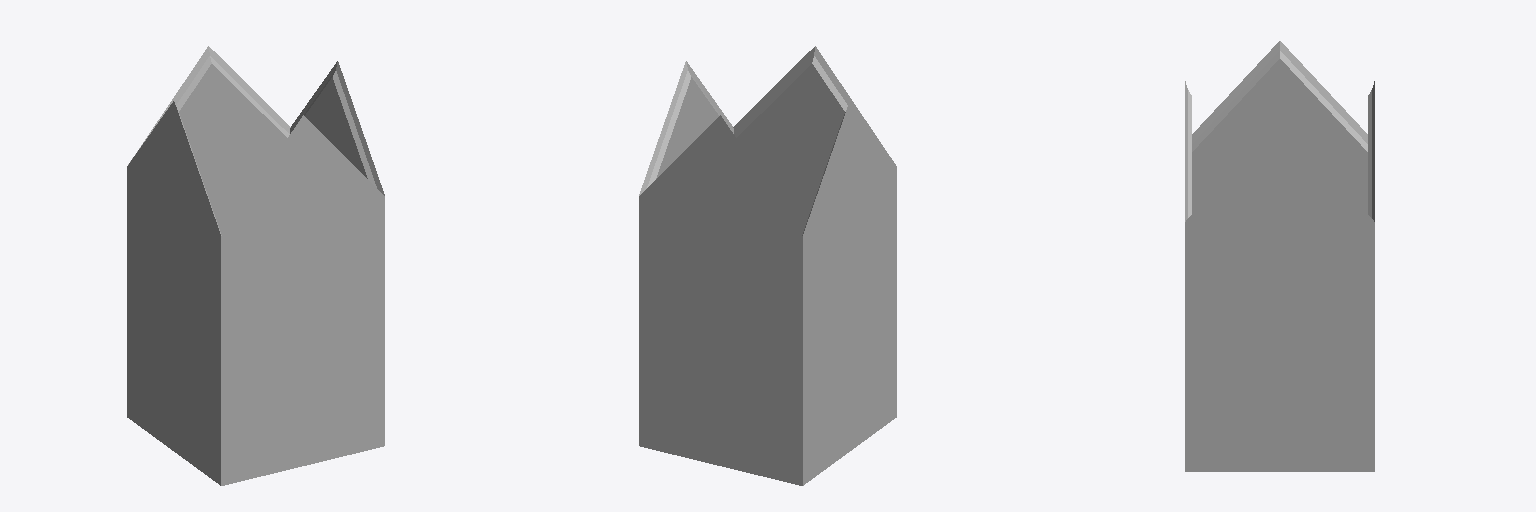
File: kingY.obj
3 renders of one model, left to right at view 1: azimuth 30°, elevation 25°; view 2: azimuth 150°, elevation 25°; view 3: azimuth 270°, elevation 25°, orthographic.
Visible parts, largest first — view 1: kingY_Куб.032; view 2: kingY_Куб.032; view 3: kingY_Куб.032.
Part boxes in pixels (bbox=[...]): kingY_Куб.032: bbox=[127, 46, 384, 485]; kingY_Куб.032: bbox=[639, 46, 896, 485]; kingY_Куб.032: bbox=[1185, 41, 1374, 471].
Bounding box in the file's own units: 0.0978 × 0.2002 × 0.0978.